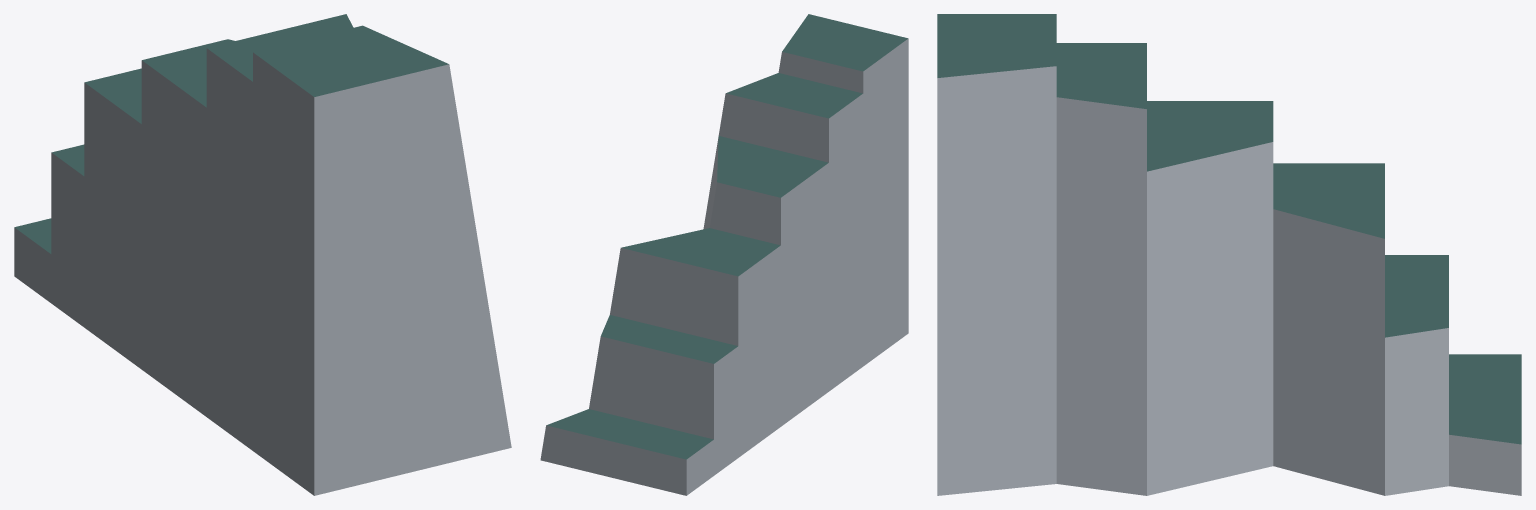
Rendered from naturePack_101.obj.
The picture shows the model from 3 angles, left to right: view 1: azimuth 30°, elevation 25°; view 2: azimuth 150°, elevation 25°; view 3: azimuth 270°, elevation 25°; orthographic projection. The views are drawn at different scales.
Parts seen in each view (by area): view 1: Mesh1_Grey_Cliff_End_Green_Top_Model; view 2: Mesh1_Grey_Cliff_End_Green_Top_Model; view 3: Mesh1_Grey_Cliff_End_Green_Top_Model.
Boxes of the visible parts, x1,y1,x2,y2 form: Mesh1_Grey_Cliff_End_Green_Top_Model: (14,14,511,495); Mesh1_Grey_Cliff_End_Green_Top_Model: (540,14,908,495); Mesh1_Grey_Cliff_End_Green_Top_Model: (937,14,1521,495).
Bounding box in the file's own units: 1.14 × 2.2 × 3.
